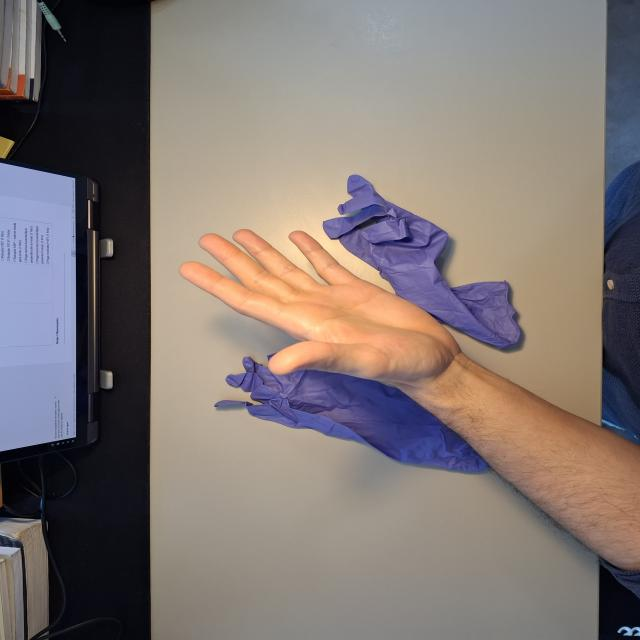glove_off: (178, 227, 468, 387)
